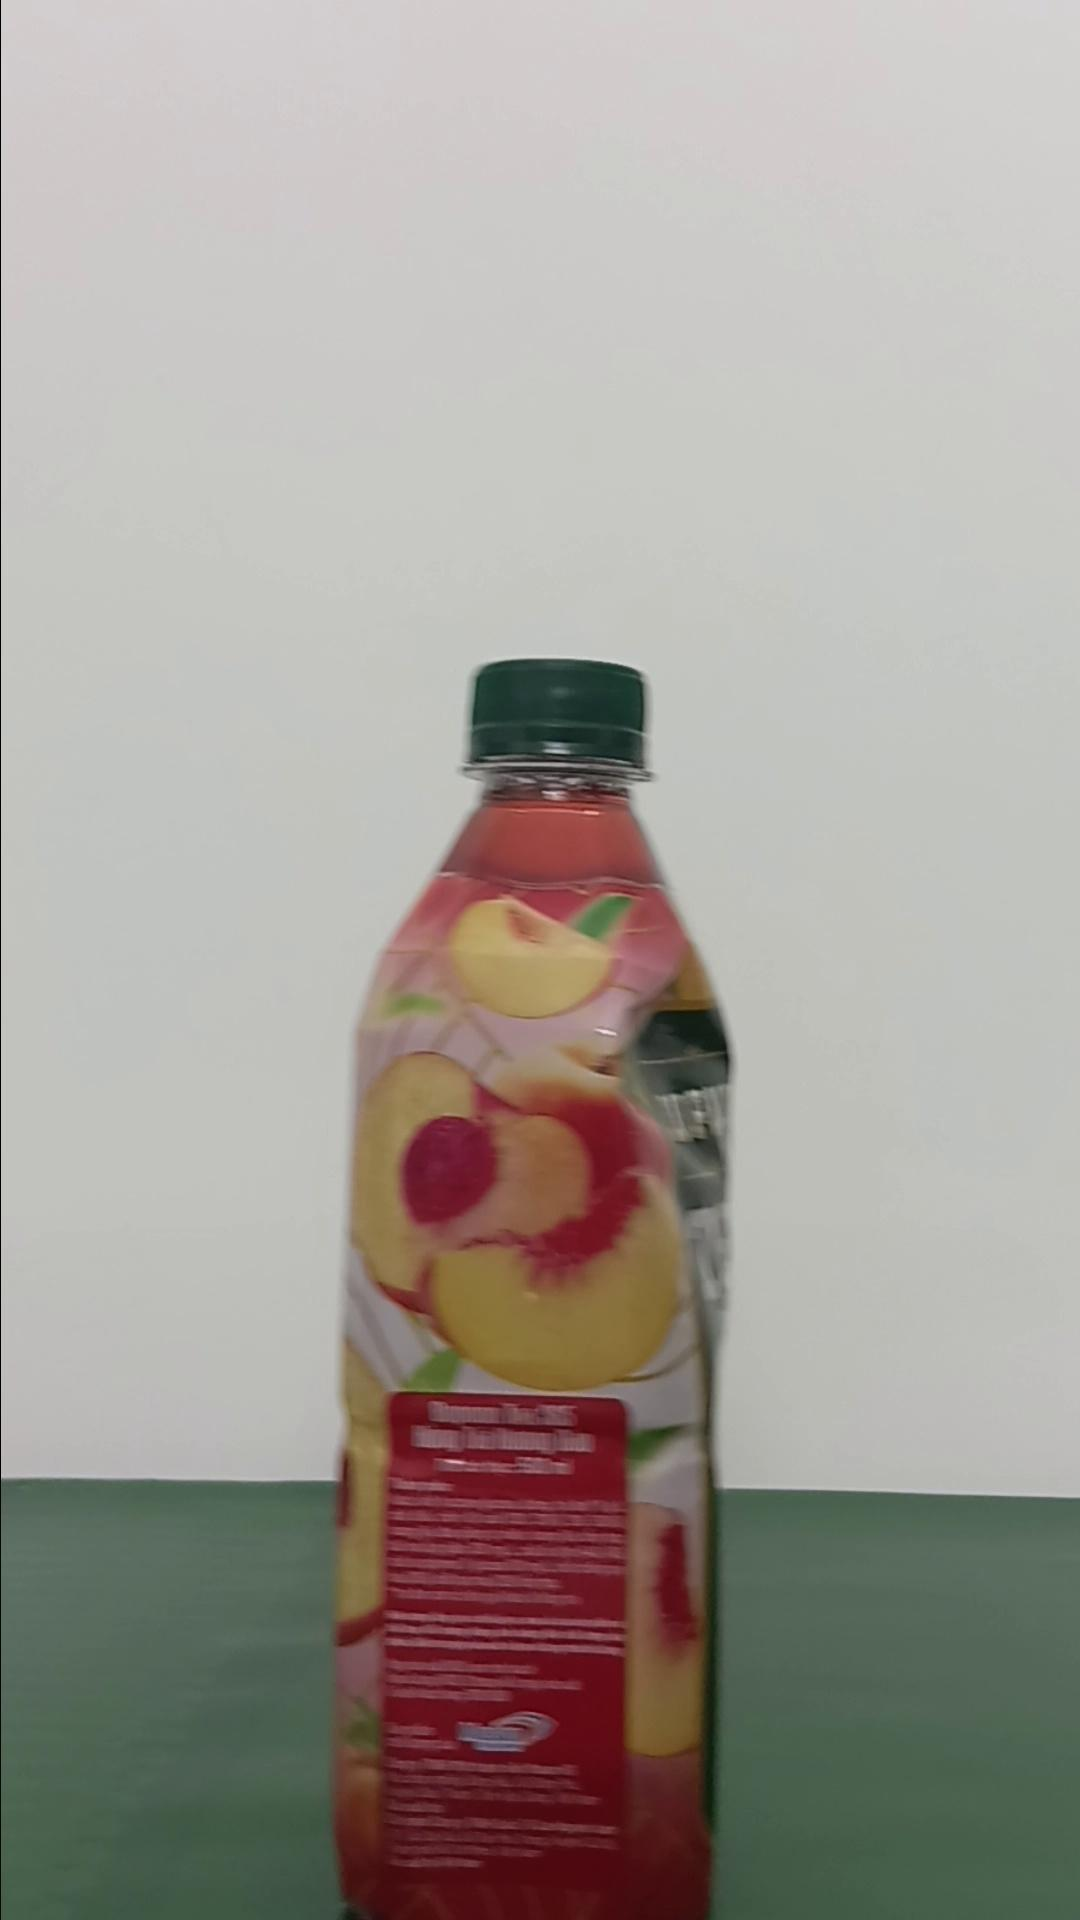loi meo sp: (327, 654, 735, 1913)
